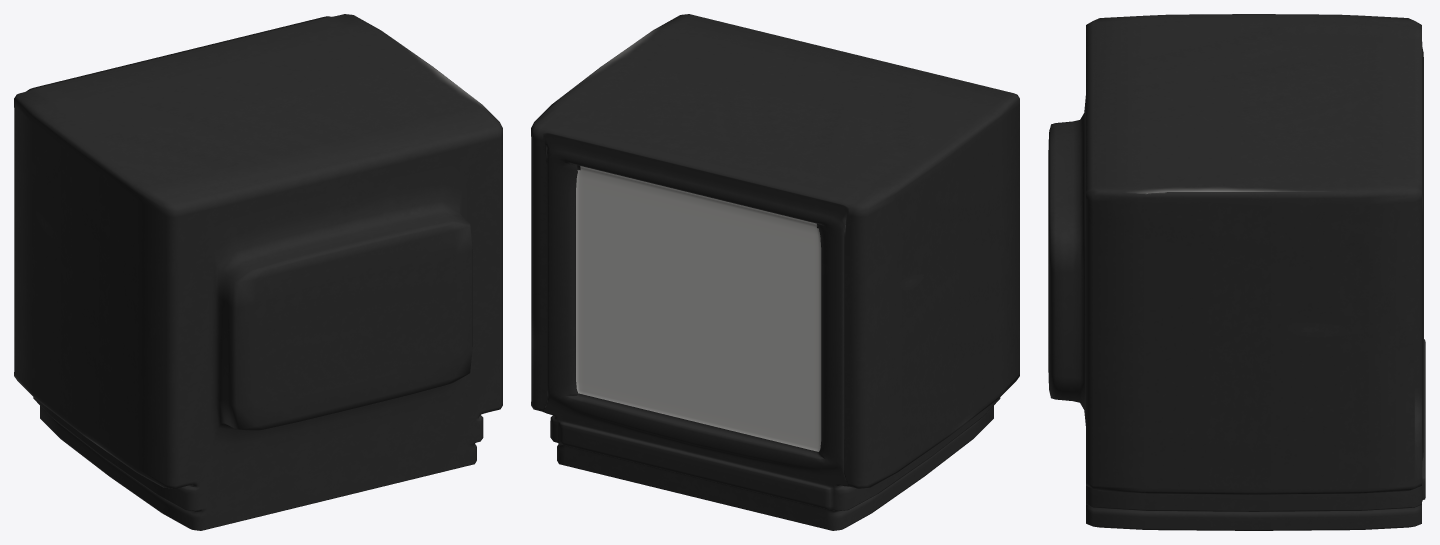
File: _finalTV.fbx
3 renders of one model, left to right at view 1: azimuth 30°, elevation 25°; view 2: azimuth 150°, elevation 25°; view 3: azimuth 270°, elevation 25°, orthographic. The views are drawn at different scales.
Parts seen in each view (by area): view 1: TV; view 2: TV; view 3: TV.
Part boxes in pixels (x1,y1,x2,y2): TV: (14, 14, 502, 530); TV: (531, 14, 1019, 530); TV: (1048, 14, 1425, 530).
Size of the model in its own units: 198 by 181 by 175.
1 material, 1 textured.
